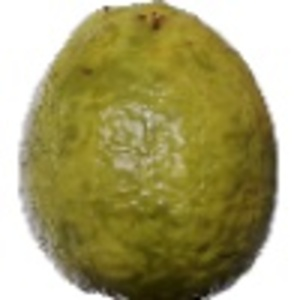goiaba: (12, 2, 286, 298)
